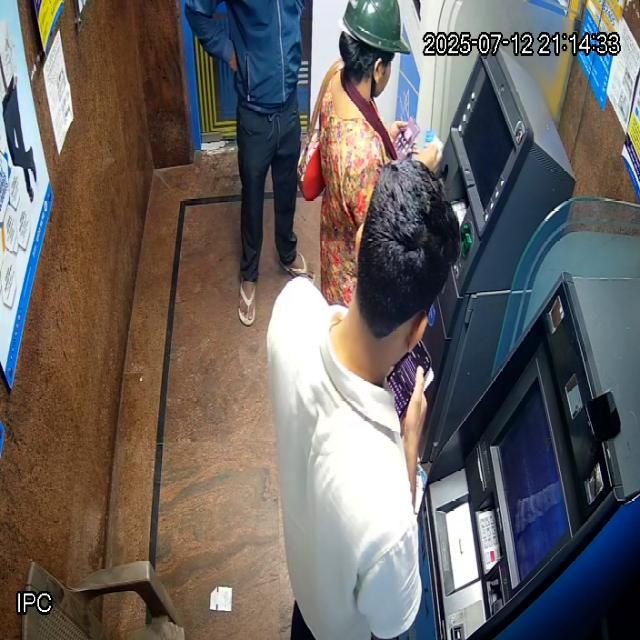helmet: (338, 0, 411, 102)
no_helmet: (330, 158, 462, 388)
